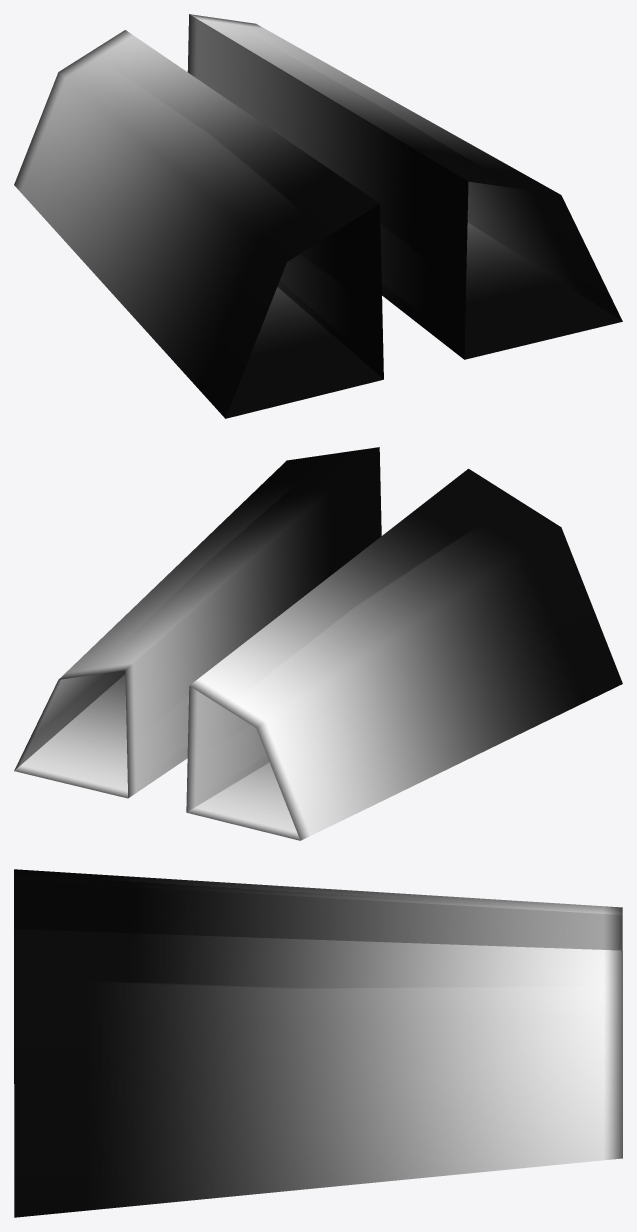
Rendered from Light-Beam-01.fbx.
3 views of the same model, one above another, from view 1: azimuth 30°, elevation 25°; view 2: azimuth 150°, elevation 25°; view 3: azimuth 270°, elevation 25° (orthographic). The views are drawn at different scales.
Visible parts, largest first — view 1: Light_Beam_01; view 2: Light_Beam_01; view 3: Light_Beam_01.
Boxes of the visible parts, x1=… form: Light_Beam_01: x1=14, y1=14, x2=622, y2=418; Light_Beam_01: x1=14, y1=447, x2=622, y2=840; Light_Beam_01: x1=14, y1=869, x2=622, y2=1217.
Size of the model in its own units: 0.4195 by 0.1792 by 0.488.
